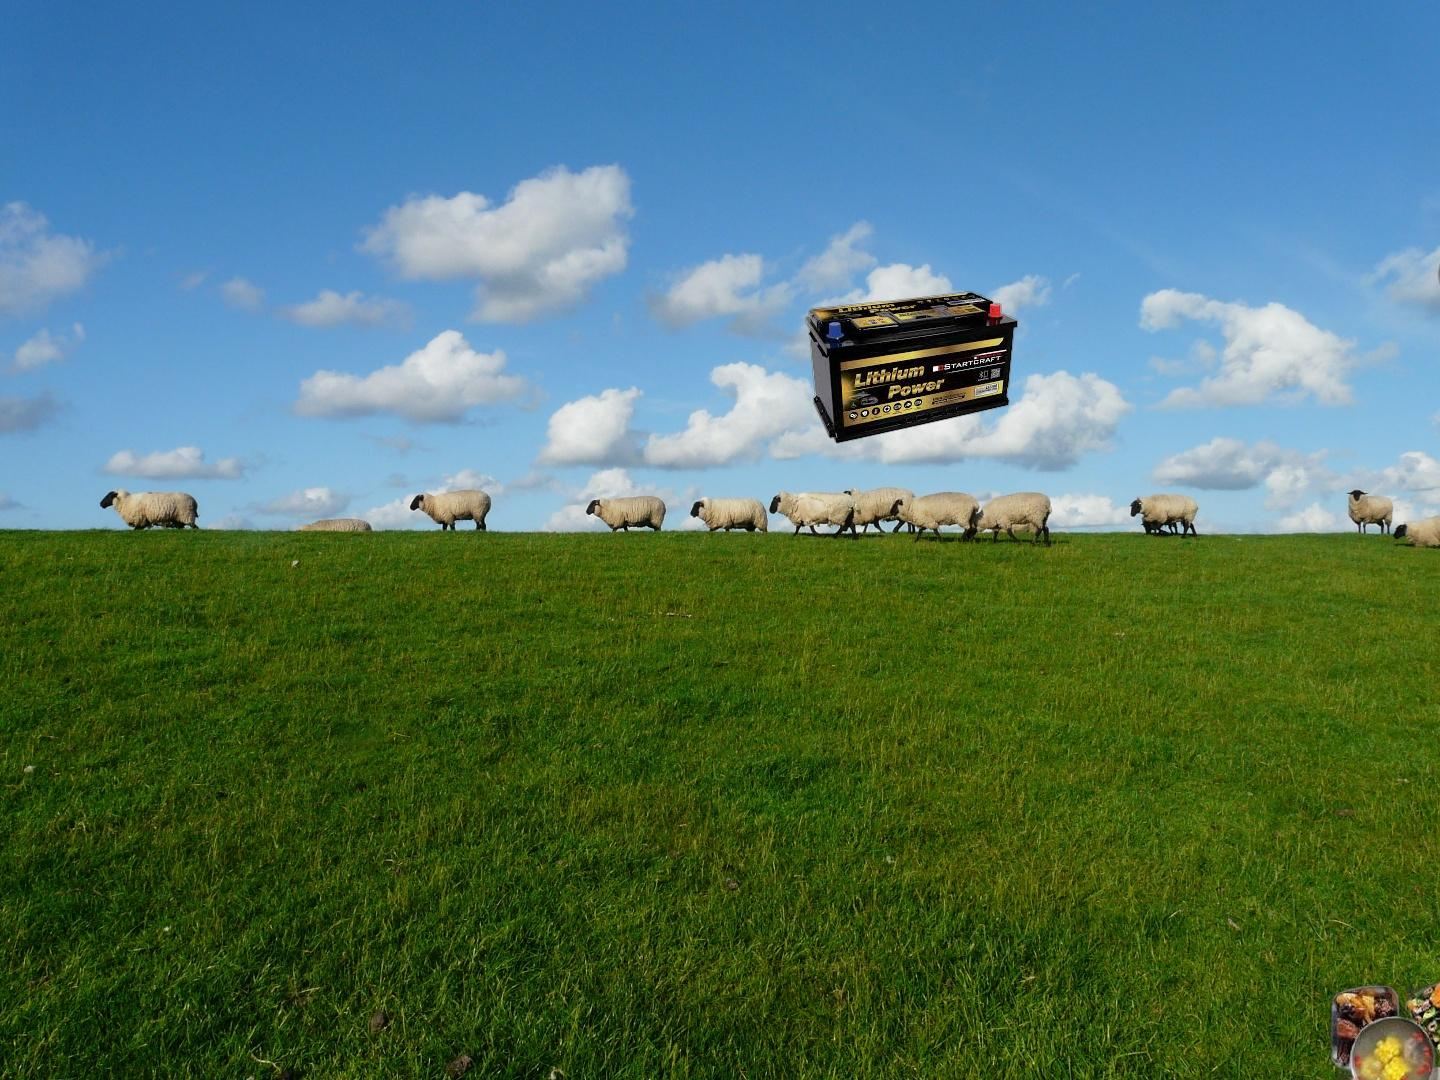battery: (803, 289, 1020, 446)
biological: (1323, 972, 1440, 1080)
glass: (1434, 223, 1440, 589)
paper: (1339, 1063, 1440, 1080)
